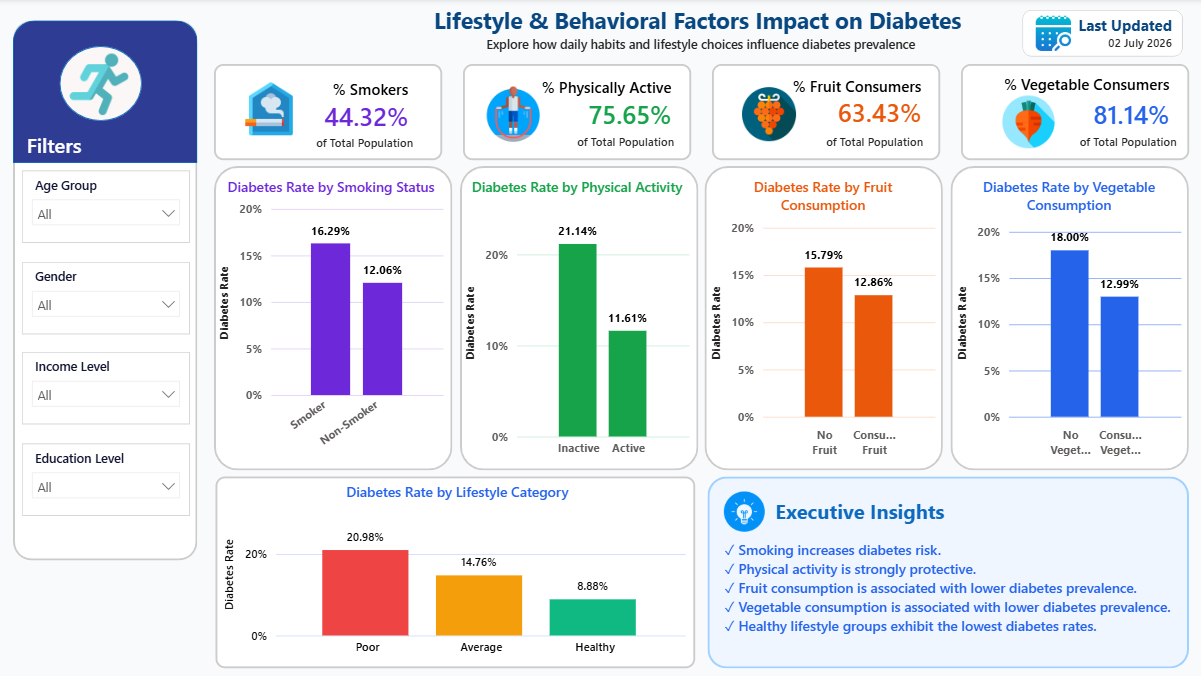

The dashboard page shown, as its layout file describes it:
{"tool":"powerbi","page":{"name":"Lifestyle Factors","canvas":[1280,720],"ordinal":2},"visuals":[{"type":"shape","box":[15.9,23.9,195.6,572.6],"z":0},{"type":"cardVisual","fields":{"Data":["diabetes_featuredFinal.% Smokers"]},"box":[229,70.6,241.8,101.8],"z":1000},{"type":"cardVisual","fields":{"Data":["diabetes_featuredFinal.% Physically Active"]},"box":[493.1,70.6,241.8,101.8],"z":2000},{"type":"cardVisual","fields":{"Data":["diabetes_featuredFinal.% Fruit Consumers"]},"box":[757.1,70.6,241.8,101.8],"z":3000},{"type":"cardVisual","fields":{"Data":["diabetes_featuredFinal.% Vegetable Consumers"]},"box":[1021.2,70.6,241.8,101.8],"z":4000},{"type":"image","box":[257.7,87.5,63.6,62],"z":5000},{"type":"image","box":[501,93.8,90.7,58.9],"z":6000},{"type":"image","box":[788.9,93.8,57.3,58.9],"z":7000},{"type":"image","box":[1057.8,103.4,70,55.7],"z":8000},{"type":"shape","box":[15.9,23.9,195.6,151.1],"z":9000},{"type":"slicer","fields":{"Values":["diabetes_featuredFinal.Age_Group"]},"box":[25.4,182.9,178.1,76.3],"z":10000},{"type":"slicer","fields":{"Values":["diabetes_featuredFinal.Gender"]},"box":[25.4,279.4,178.1,76.3],"z":11000},{"type":"slicer","fields":{"Values":["diabetes_featuredFinal.Income_Level"]},"box":[25.4,375.9,178.1,76.3],"z":12000},{"type":"slicer","fields":{"Values":["diabetes_featuredFinal.Education_Level"]},"box":[25.4,472.4,178.1,76.3],"z":13000},{"type":"textbox","box":[25.4,135.2,82.7,42.9],"z":14000},{"type":"textbox","box":[345.2,1.6,800.1,62],"z":15000},{"type":"textbox","box":[307,138.4,163.8,35],"z":16000},{"type":"shape","box":[65.2,50.6,87.5,79.5],"z":17000},{"type":"cardVisual","fields":{"Data":["diabetes_featuredFinal.Last Update"]},"box":[1085.9,12.7,170.2,49.3],"z":18000},{"type":"image","box":[1098.6,12.7,39.8,49.3],"z":19000},{"type":"image","box":[60.4,58.6,93.8,65.2],"z":20000},{"type":"textbox","box":[583.8,136.8,163.8,35],"z":21000},{"type":"textbox","box":[847.8,136.8,163.8,35],"z":22000},{"type":"textbox","box":[1116.2,136.8,163.8,35],"z":23000},{"type":"shape","box":[229,178.1,252.9,322.9],"z":24000},{"type":"shape","box":[489.4,178.1,252.9,322.9],"z":25000},{"type":"shape","box":[749.7,178.1,252.9,322.9],"z":26000},{"type":"shape","box":[1010,178.1,252.9,322.9],"z":27000},{"type":"clusteredColumnChart","title":"Diabetes Rate by Smoking Status","fields":{"Category":["diabetes_featuredFinal.Smoking Status"],"Y":["diabetes_featuredFinal.Diabetes Rate"]},"box":[229,189.3,248.1,305.4],"z":28000},{"type":"clusteredColumnChart","title":"Diabetes Rate by Physical Activity","fields":{"Category":["diabetes_featuredFinal.Activity Status"],"Y":["diabetes_featuredFinal.Diabetes Rate"]},"box":[489.9,189.3,248.1,305.4],"z":29000},{"type":"clusteredColumnChart","title":"Diabetes Rate by Fruit Consumption","fields":{"Category":["diabetes_featuredFinal.Fruit Status"],"Y":["diabetes_featuredFinal.Diabetes Rate"]},"box":[750.8,189.3,248.1,305.4],"z":30000},{"type":"clusteredColumnChart","title":"Diabetes Rate by Vegetable Consumption","fields":{"Category":["diabetes_featuredFinal.Vegetable Status"],"Y":["diabetes_featuredFinal.Diabetes Rate"]},"box":[1011.6,189.3,248.1,305.4],"z":31000},{"type":"clusteredColumnChart","title":"Diabetes Rate by Lifestyle Category","fields":{"Y":["diabetes_featuredFinal.Diabetes Rate"],"Category":["diabetes_featuredFinal.Lifestyle_Category"]},"box":[230.6,507.4,509,203.6],"z":32000},{"type":"shape","box":[752.4,507.4,510.6,203.6],"z":33000},{"type":"image","box":[765.4,523.3,52.5,42.9],"z":34000},{"type":"textbox","box":[819.2,523.3,200.4,42.9],"z":35000},{"type":"textbox","box":[765.1,569.4,485.1,124.1],"z":36000}]}

Visuals, with their boxes in screenshot pixels (x1, y1, x2, y2), scaled from the page's 1280x720 canvas onto the 1201x676 screenshot:
shape: detection(15, 22, 198, 560)
cardVisual - diabetes_featuredFinal.% Smokers: detection(215, 66, 442, 162)
cardVisual - diabetes_featuredFinal.% Physically Active: detection(463, 66, 690, 162)
cardVisual - diabetes_featuredFinal.% Fruit Consumers: detection(710, 66, 937, 162)
cardVisual - diabetes_featuredFinal.% Vegetable Consumers: detection(958, 66, 1185, 162)
image: detection(242, 82, 301, 140)
image: detection(470, 88, 555, 143)
image: detection(740, 88, 794, 143)
image: detection(993, 97, 1058, 149)
shape: detection(15, 22, 198, 164)
slicer - diabetes_featuredFinal.Age_Group: detection(24, 172, 191, 243)
slicer - diabetes_featuredFinal.Gender: detection(24, 262, 191, 334)
slicer - diabetes_featuredFinal.Income_Level: detection(24, 353, 191, 425)
slicer - diabetes_featuredFinal.Education_Level: detection(24, 444, 191, 515)
textbox: detection(24, 127, 101, 167)
textbox: detection(324, 2, 1075, 60)
textbox: detection(288, 130, 442, 163)
shape: detection(61, 48, 143, 122)
cardVisual - diabetes_featuredFinal.Last Update: detection(1019, 12, 1179, 58)
image: detection(1031, 12, 1068, 58)
image: detection(57, 55, 145, 116)
textbox: detection(548, 128, 701, 161)
textbox: detection(795, 128, 949, 161)
textbox: detection(1047, 128, 1200, 161)
shape: detection(215, 167, 452, 470)
shape: detection(459, 167, 696, 470)
shape: detection(703, 167, 941, 470)
shape: detection(948, 167, 1185, 470)
"Diabetes Rate by Smoking Status" clusteredColumnChart: detection(215, 178, 448, 464)
"Diabetes Rate by Physical Activity" clusteredColumnChart: detection(460, 178, 692, 464)
"Diabetes Rate by Fruit Consumption" clusteredColumnChart: detection(704, 178, 937, 464)
"Diabetes Rate by Vegetable Consumption" clusteredColumnChart: detection(949, 178, 1182, 464)
"Diabetes Rate by Lifestyle Category" clusteredColumnChart: detection(216, 476, 694, 668)
shape: detection(706, 476, 1185, 668)
image: detection(718, 491, 767, 532)
textbox: detection(769, 491, 957, 532)
textbox: detection(718, 535, 1173, 651)
